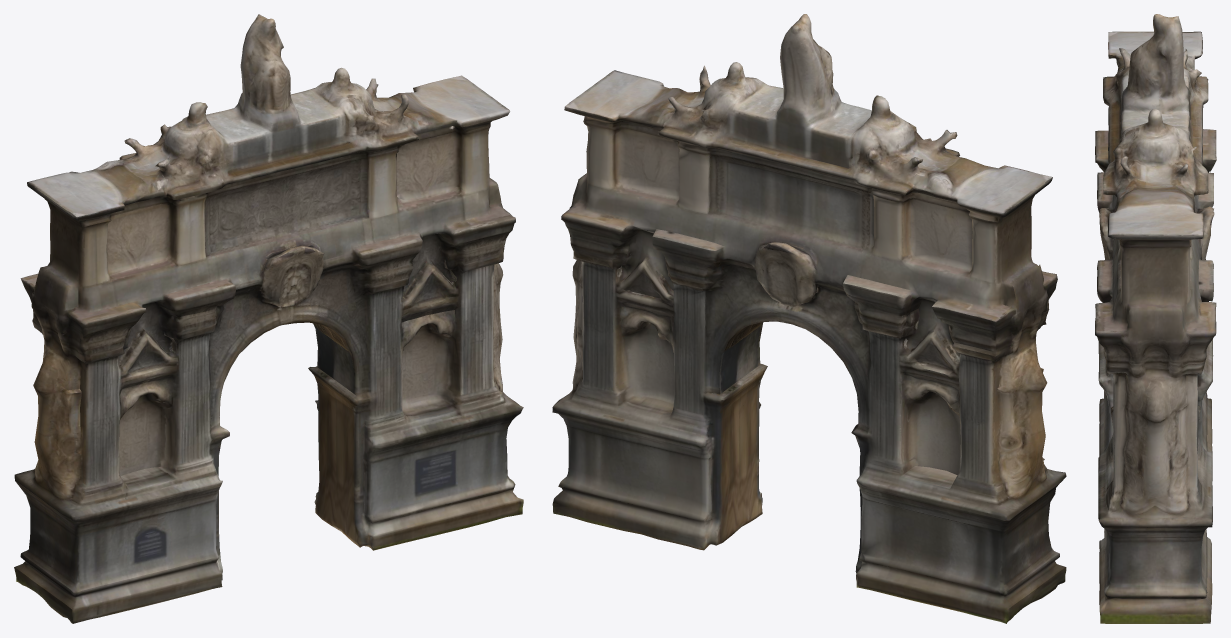
Rendered from UST_ARC.glb.
3 renders of one model, left to right at view 1: azimuth 30°, elevation 25°; view 2: azimuth 150°, elevation 25°; view 3: azimuth 270°, elevation 25°, orthographic. The views are drawn at different scales.
Parts seen in each view (by area): view 1: Mesh0; view 2: Mesh0; view 3: Mesh0.
Part boxes in pixels (<box>): Mesh0: <box>14,14,523,623</box>; Mesh0: <box>552,14,1066,623</box>; Mesh0: <box>1095,14,1216,623</box>.
Bounding box in the file's own units: 1.76 × 1.9 × 0.4144.
Materials: 1 (1 with a texture image).
